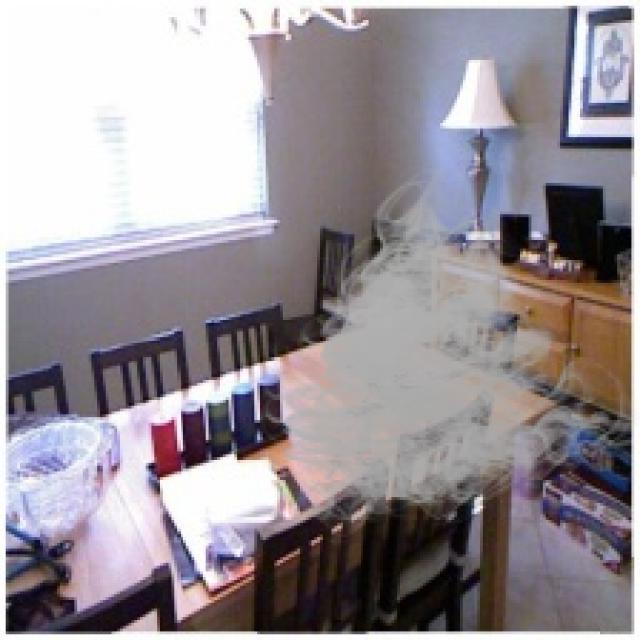smoke: (249, 168, 637, 548)
